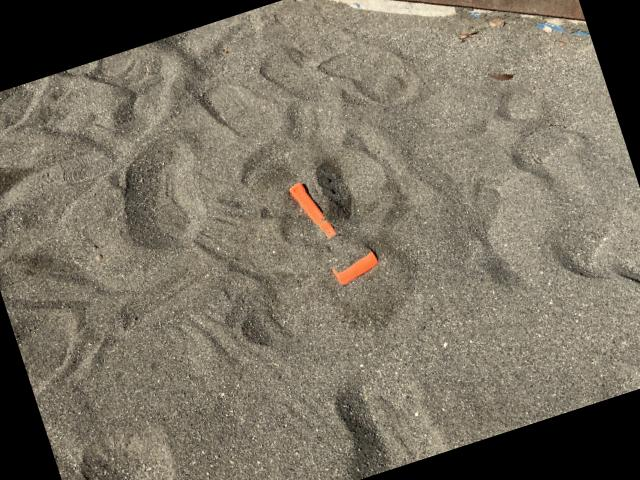hammer: (287, 166, 382, 292)
